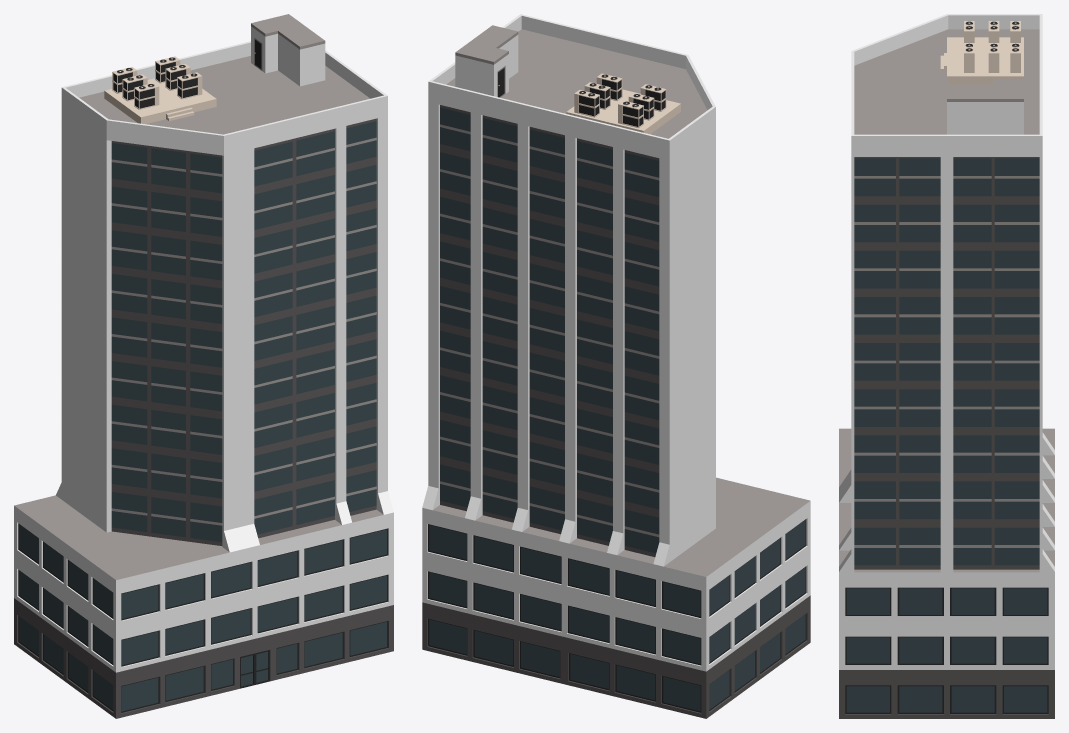
Rendered from buildings_building-office.fbx.
3 renders of one model, left to right at view 1: azimuth 30°, elevation 25°; view 2: azimuth 150°, elevation 25°; view 3: azimuth 270°, elevation 25°, orthographic. The views are drawn at different scales.
Parts seen in each view (by area): view 1: buildings_building_office; view 2: buildings_building_office; view 3: buildings_building_office.
Boxes of the visible parts, x1,y1,x2,y2 form: buildings_building_office: (14, 14, 393, 718); buildings_building_office: (422, 14, 810, 718); buildings_building_office: (839, 14, 1054, 718).
Size of the model in its own units: 101 by 200 by 64.07.
